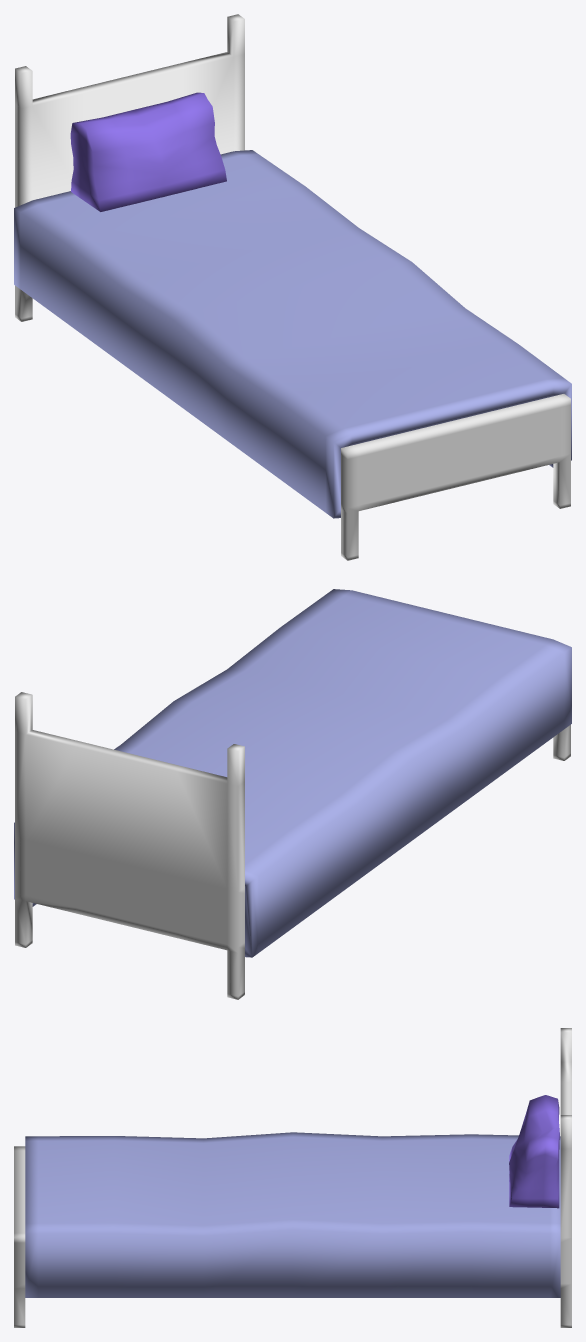
The model's file is bed.fbx.
The picture shows the model from 3 angles, top to bottom: view 1: azimuth 30°, elevation 25°; view 2: azimuth 150°, elevation 25°; view 3: azimuth 270°, elevation 25°; orthographic projection. The views are drawn at different scales.
Parts seen in each view (by area): view 1: Cube.001, Cube.008, Cube.002; view 2: Cube.001, Cube.008; view 3: Cube.001, Cube.008, Cube.002.
Part boxes in pixels (bbox=[...]): Cube.001: bbox=[14, 150, 571, 518]; Cube.008: bbox=[15, 14, 570, 560]; Cube.002: bbox=[70, 92, 226, 211]; Cube.001: bbox=[14, 589, 571, 957]; Cube.008: bbox=[15, 692, 570, 999]; Cube.001: bbox=[25, 1132, 560, 1297]; Cube.008: bbox=[14, 1028, 571, 1327]; Cube.002: bbox=[509, 1095, 559, 1208].
Size of the model in its own units: 268 by 267 by 648.
